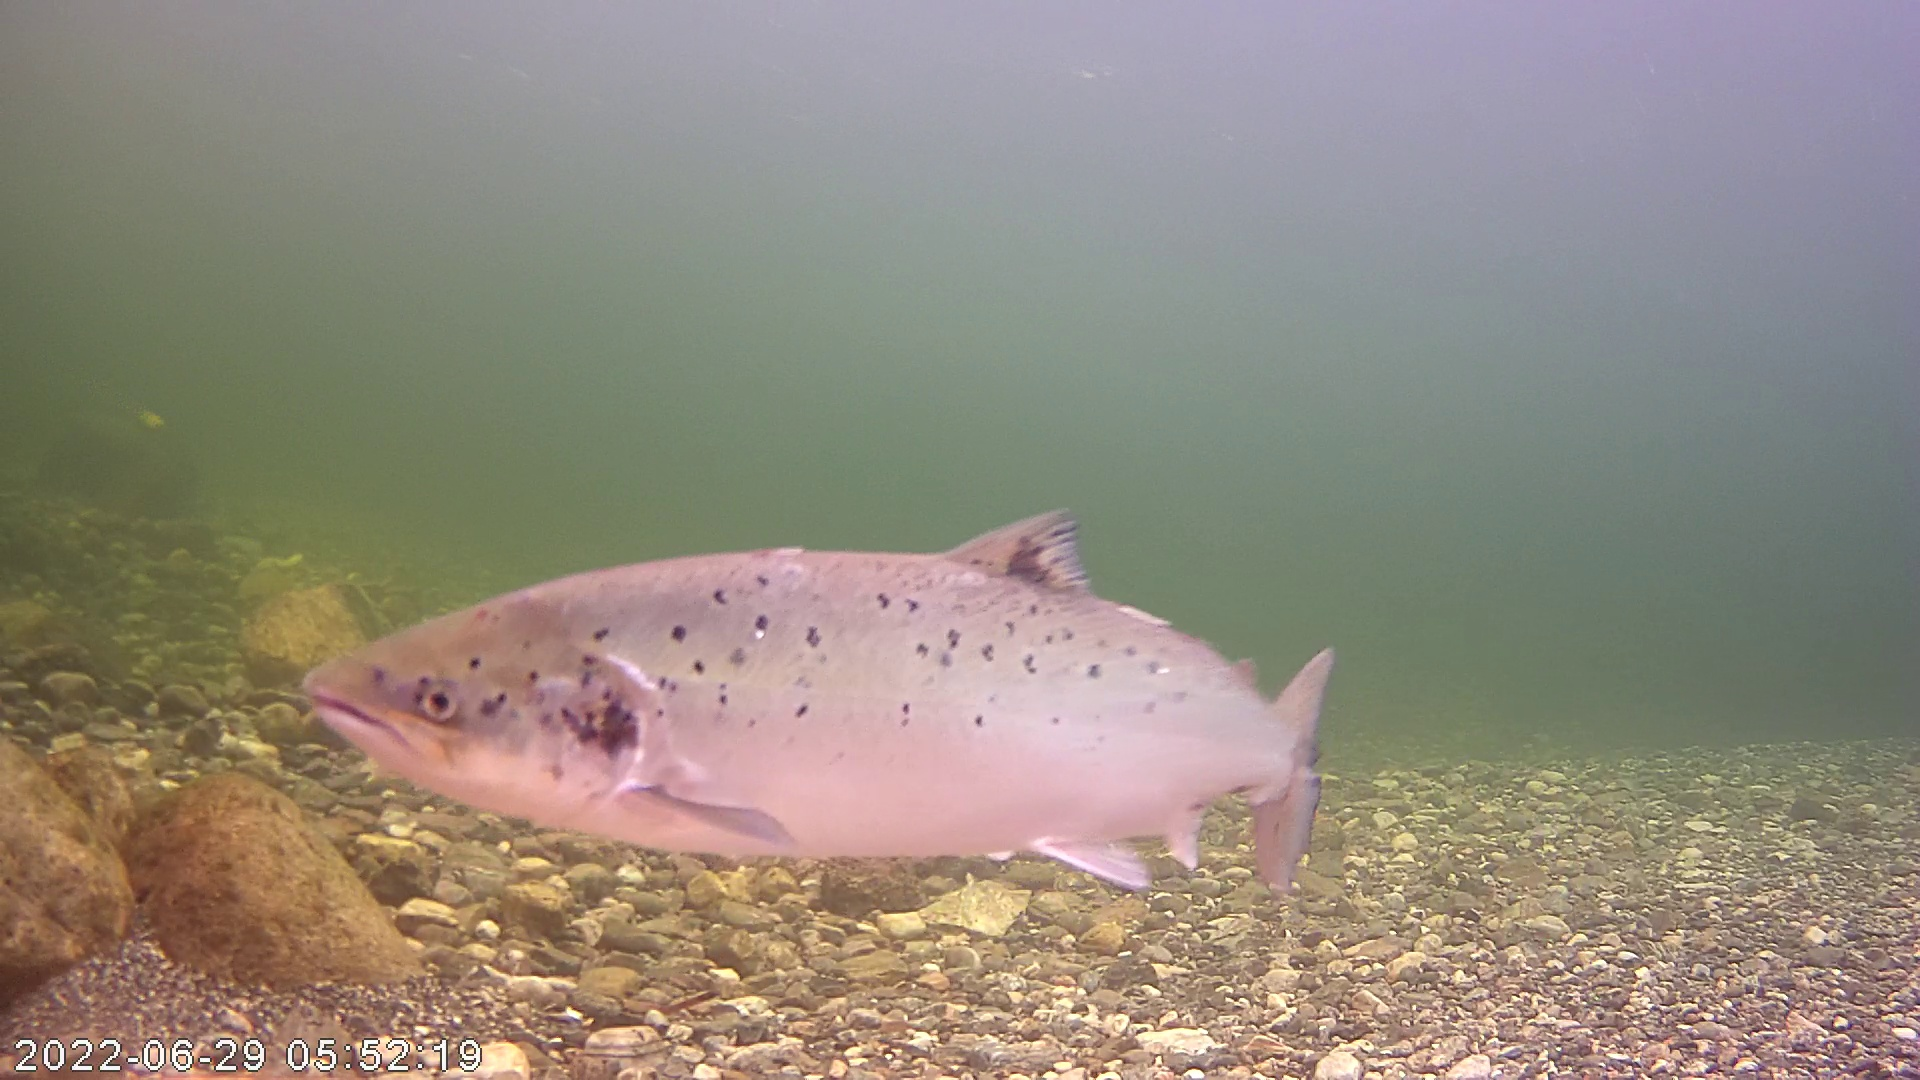salmon: (301, 418, 1332, 885)
